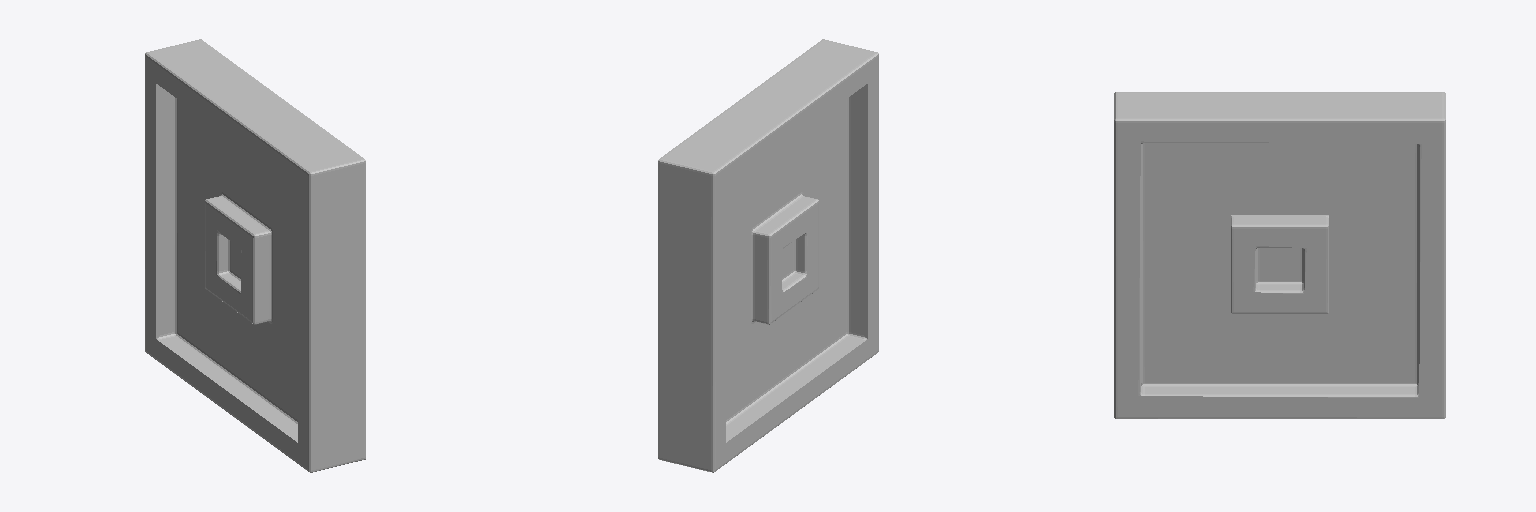
Rendered from square.obj.
3 renders of one model, left to right at view 1: azimuth 30°, elevation 25°; view 2: azimuth 150°, elevation 25°; view 3: azimuth 270°, elevation 25°, orthographic.
Visible parts, largest first — view 1: Cube; view 2: Cube; view 3: Cube.
Part boxes in pixels (bbox=[...]): Cube: bbox=[145, 39, 365, 472]; Cube: bbox=[658, 39, 878, 472]; Cube: bbox=[1114, 92, 1445, 418].
Bounding box in the file's own units: 0.4045 × 2 × 2.